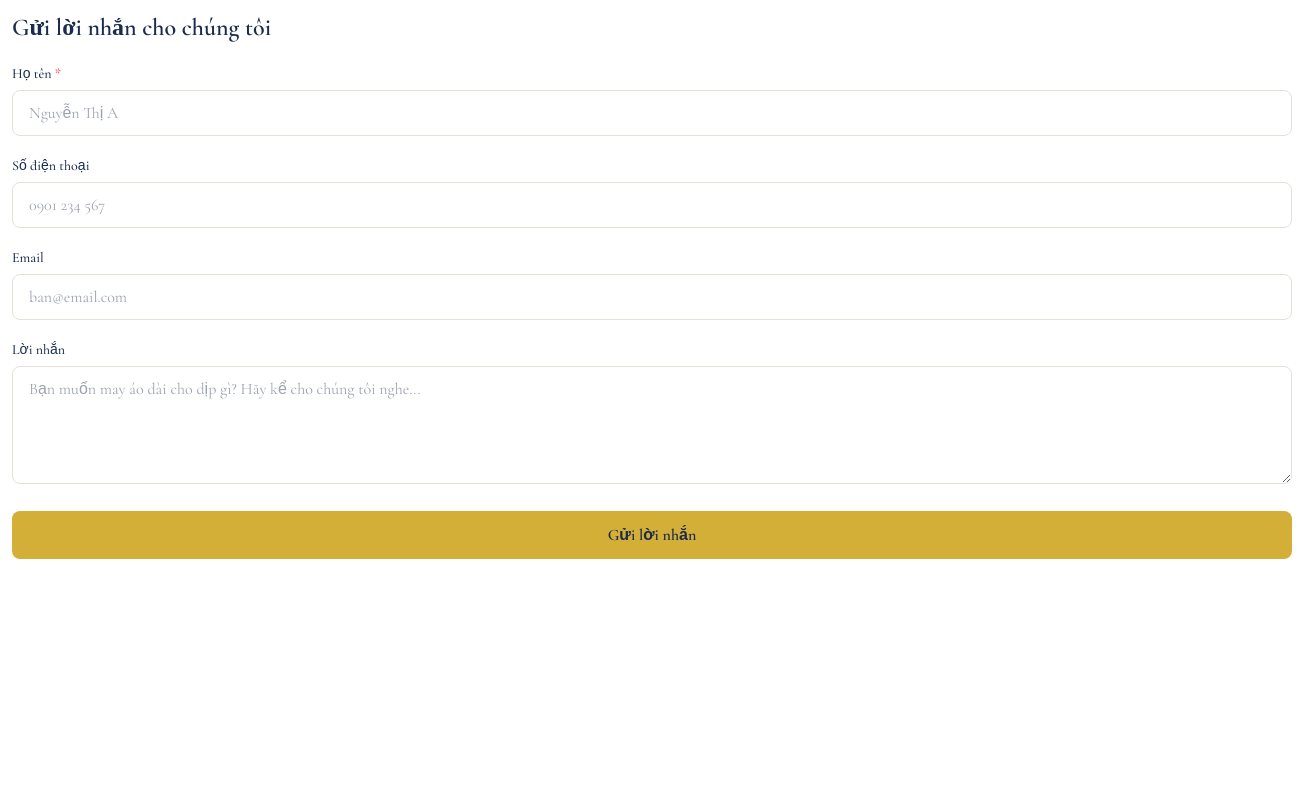
ContactForm › submits with null phone when empty, omits source, and shows success toast + resets
The width and height of the screenshot is (1304, 812).
In the field labelled "Họ tên *": (652, 113) [12, 90, 1292, 136], type "Nguyễn Thị Lan"
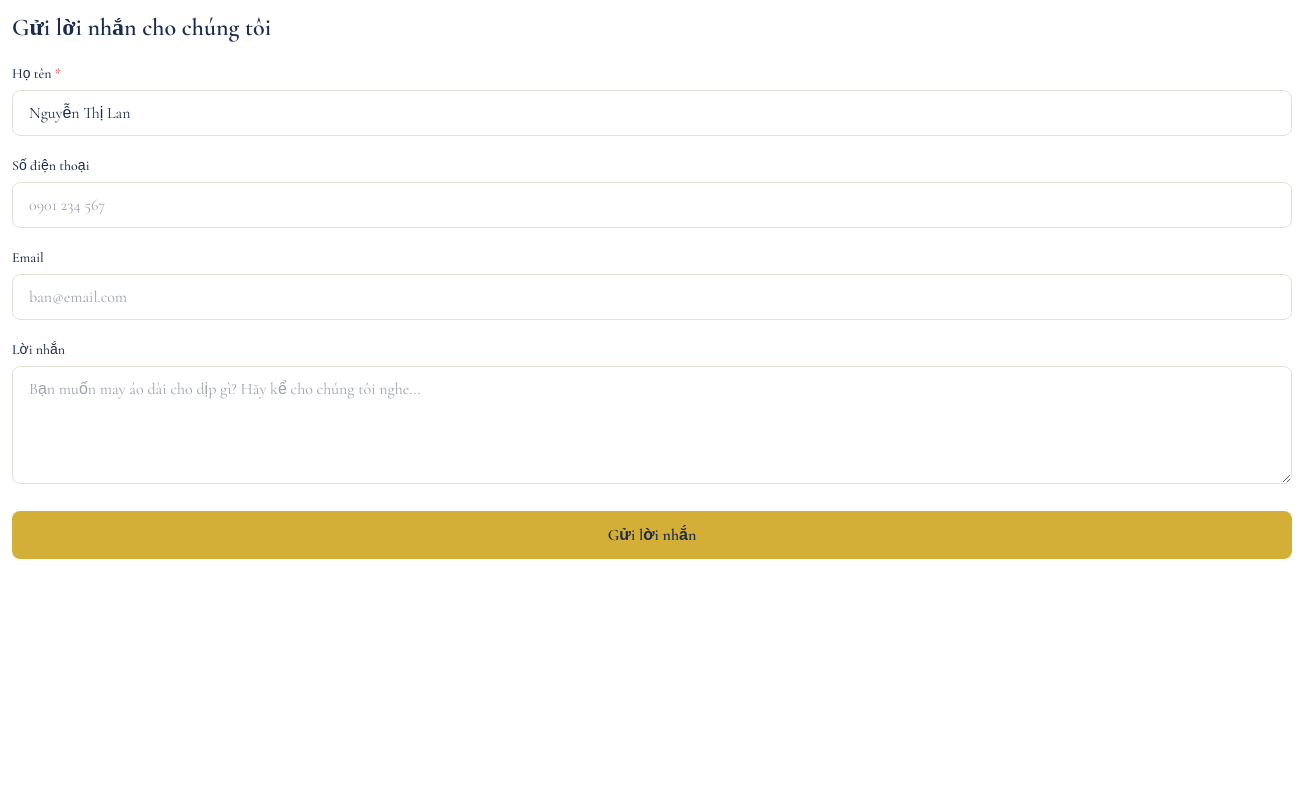
Click the button "Gửi lời nhắn": (652, 535) [12, 511, 1292, 559]
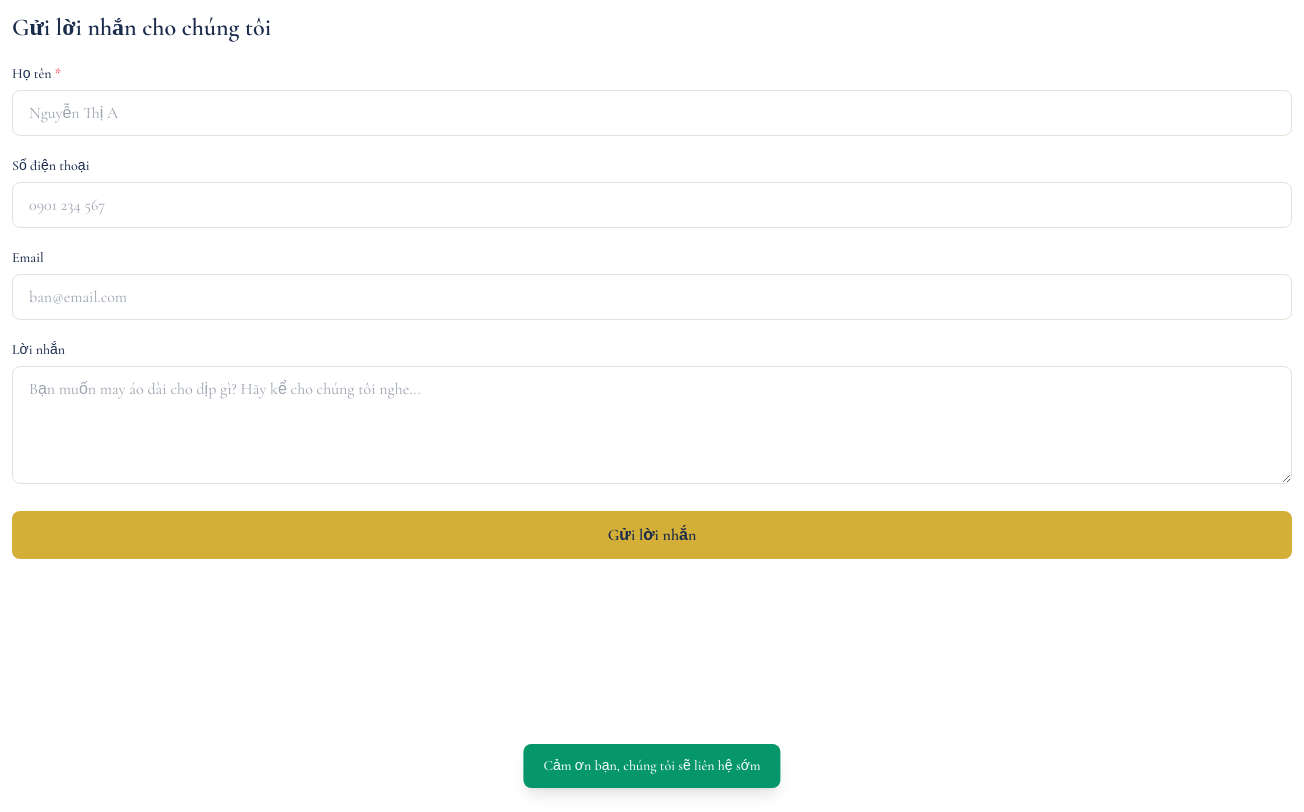
Check: the text "Cảm ơn bạn, chúng tôi sẽ liên hệ sớm" is shown, box [523, 744, 781, 788]
Check: the field labelled "Họ tên *" is empty, box [12, 90, 1292, 136]
